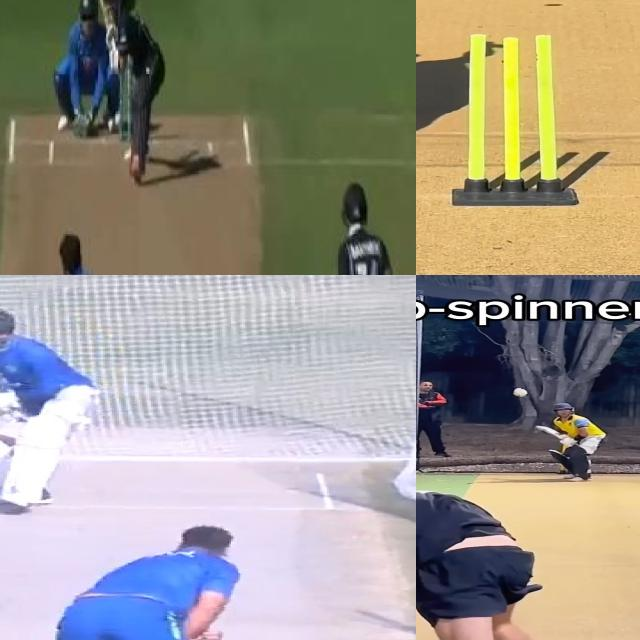Cricket ball: (512, 387, 529, 397), (123, 151, 131, 161)
Stumps: (452, 33, 577, 211)
